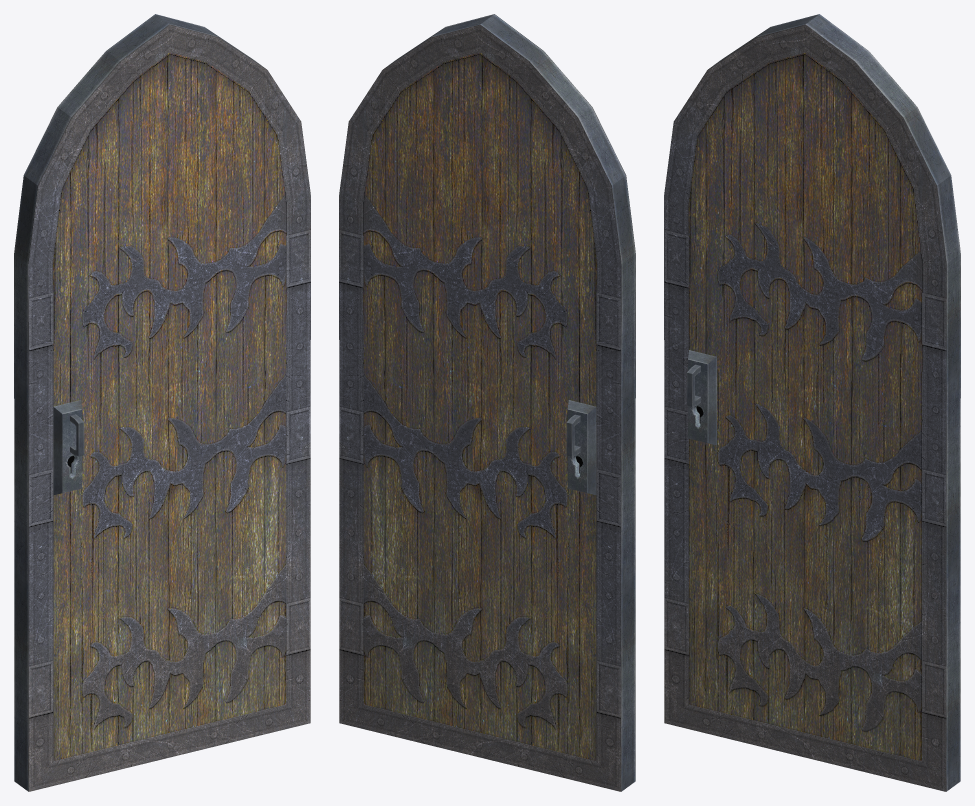
File: BigDoor.FBX
3 renders of one model, left to right at view 1: azimuth 30°, elevation 25°; view 2: azimuth 150°, elevation 25°; view 3: azimuth 330°, elevation 25°, orthographic.
Visible parts, largest first — view 1: Object200; view 2: Object200; view 3: Object200.
Part boxes in pixels (x1,y1,x2,y2): Object200: (14,14,310,791); Object200: (339,14,635,791); Object200: (664,14,960,791).
Size of the model in its own units: 241 by 597 by 61.62.
Materials: 2 (2 with a texture image).
